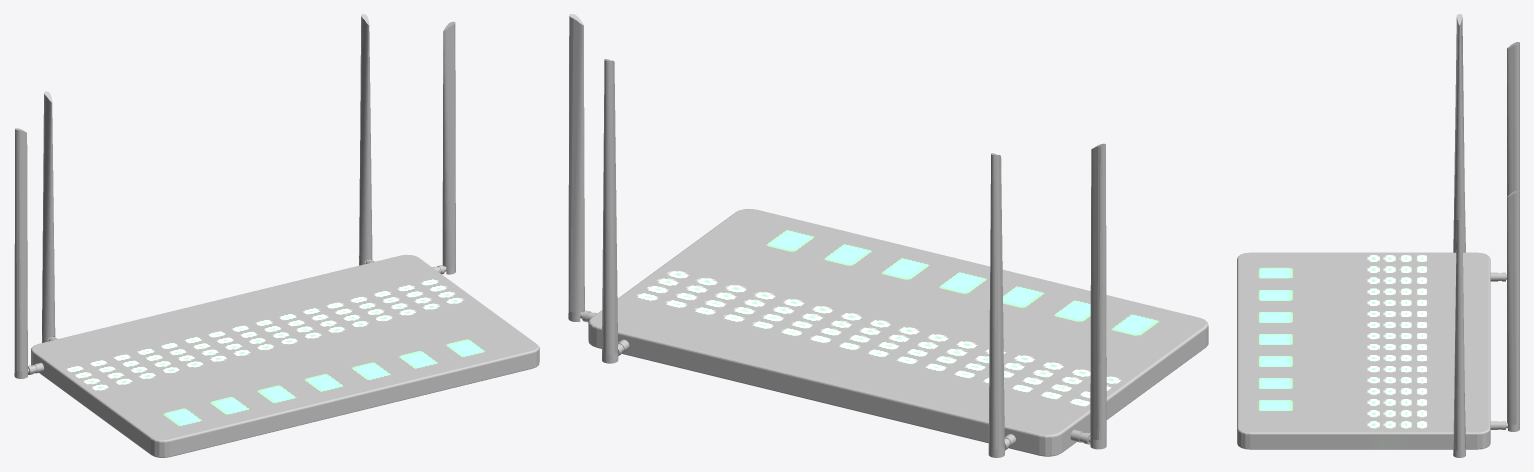
3 renders of one model, left to right at view 1: azimuth 30°, elevation 25°; view 2: azimuth 150°, elevation 25°; view 3: azimuth 270°, elevation 25°, orthographic. The views are drawn at different scales.
Visible parts, largest first — view 1: Router_8, Antena04_6, Antena_0, Antena03_4, Antena02_2; view 2: Router_8, Antena04_6, Antena_0, Antena03_4, Antena02_2; view 3: Router_8, Antena02_2, Antena_0, Antena04_6, Antena03_4.
Part boxes in pixels (bbox=[...]): Router_8: bbox=[31, 254, 539, 457]; Antena04_6: bbox=[14, 128, 27, 378]; Antena_0: bbox=[442, 21, 455, 274]; Antena03_4: bbox=[42, 91, 55, 342]; Antena02_2: bbox=[359, 14, 372, 265]; Router_8: bbox=[588, 209, 1208, 456]; Antena04_6: bbox=[1090, 143, 1106, 449]; Antena_0: bbox=[568, 14, 584, 321]; Antena03_4: bbox=[988, 153, 1004, 457]; Antena02_2: bbox=[602, 59, 618, 363]; Router_8: bbox=[1237, 252, 1490, 449]; Antena02_2: bbox=[1507, 190, 1519, 431]; Antena_0: bbox=[1453, 219, 1465, 457]; Antena04_6: bbox=[1453, 14, 1465, 252]; Antena03_4: bbox=[1507, 42, 1519, 196].
Size of the model in its own units: 0.2291 by 0.1258 by 0.133.
